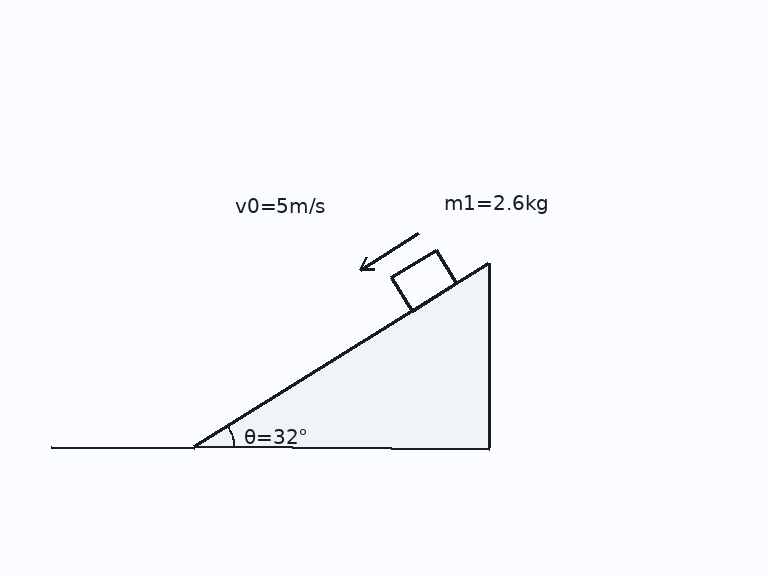block: (389, 248, 459, 313)
ramp: (192, 261, 490, 449)
